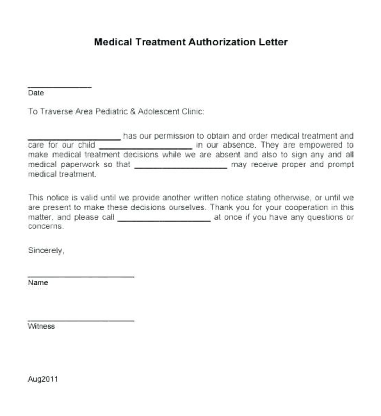textline: (26, 310, 137, 323), (26, 266, 136, 279), (25, 129, 122, 142), (133, 159, 229, 172), (21, 76, 99, 90), (116, 213, 212, 224), (97, 141, 195, 151)
